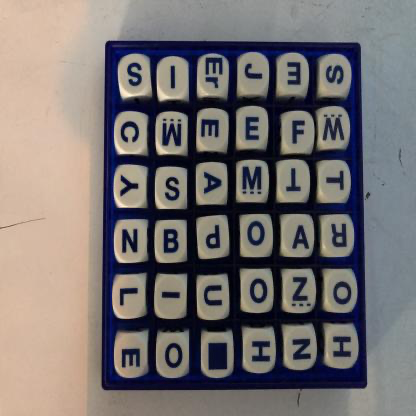a: (284, 218, 313, 256), (198, 166, 226, 203)
b: (159, 223, 186, 260)
c: (118, 115, 147, 153)
e: (117, 335, 145, 376), (279, 57, 308, 94), (239, 110, 268, 146), (200, 115, 228, 150)
er: (197, 58, 228, 96)
f: (283, 115, 314, 152)
h: (328, 326, 359, 369), (245, 330, 276, 371)
i: (157, 280, 187, 318), (159, 62, 187, 100)
j: (239, 57, 269, 97)
l: (116, 279, 143, 316)
m: (158, 117, 187, 153), (239, 165, 266, 201)
n: (285, 328, 317, 369), (118, 224, 145, 261)
o: (157, 338, 189, 378), (243, 273, 272, 313), (242, 218, 272, 256), (327, 272, 355, 312)
p: (198, 220, 229, 258)
r: (324, 218, 353, 256)
s: (121, 59, 150, 96), (321, 59, 350, 94), (158, 171, 186, 206)
t: (280, 164, 310, 202), (320, 165, 350, 203)
u: (198, 279, 228, 318)
w: (319, 111, 348, 148)
wild: (203, 335, 234, 377)
y: (117, 170, 146, 207)
z: (285, 273, 315, 312)
